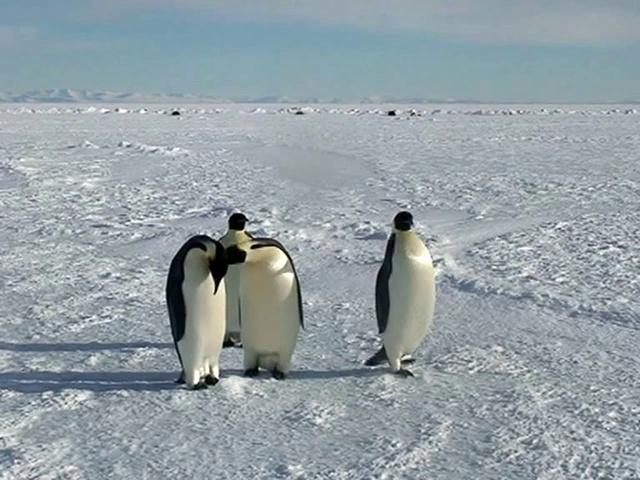animal: (366, 212, 436, 377)
